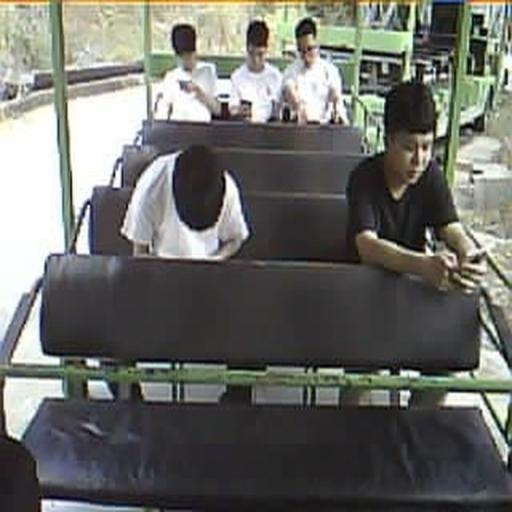persona: (345, 79, 487, 294), (120, 143, 252, 261), (280, 17, 350, 126), (153, 22, 220, 122), (228, 19, 282, 123)
